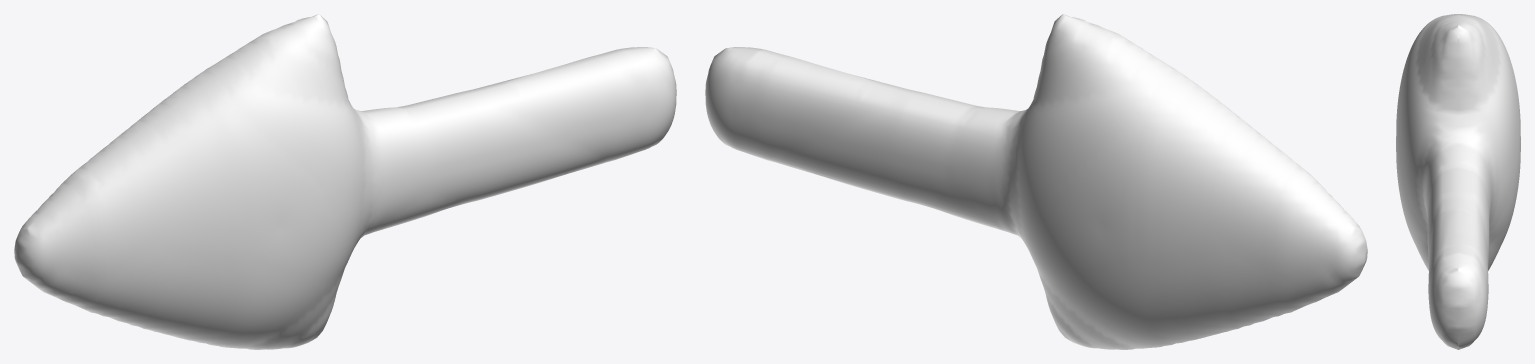
File: back.glb
3 views of the same model, side by side, from view 1: azimuth 30°, elevation 25°; view 2: azimuth 150°, elevation 25°; view 3: azimuth 270°, elevation 25° (orthographic). The views are drawn at different scales.
Parts seen in each view (by area): view 1: mesh_id40; view 2: mesh_id40; view 3: mesh_id40.
Part boxes in pixels (box(x1,y1,x2,y2)): mesh_id40: box(14, 14, 676, 349); mesh_id40: box(705, 14, 1367, 349); mesh_id40: box(1396, 14, 1520, 349).
Size of the model in its own units: 0.3028 by 0.1431 by 0.0574.
1 material, 1 textured.
